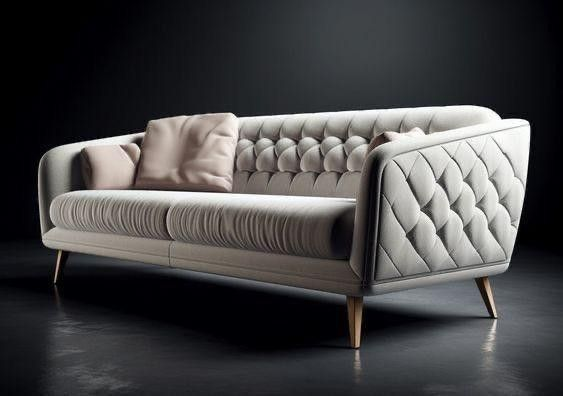3seatersofa: (39, 106, 529, 348)
backrest: (234, 106, 498, 197)
base: (43, 228, 358, 292)
leftarmrest: (349, 119, 529, 293)
leg: (475, 277, 495, 317), (347, 296, 362, 347), (54, 250, 69, 284)
pillow: (81, 113, 237, 191), (368, 127, 424, 153)
rightarmrest: (38, 132, 143, 234)
seat: (50, 190, 355, 258)
